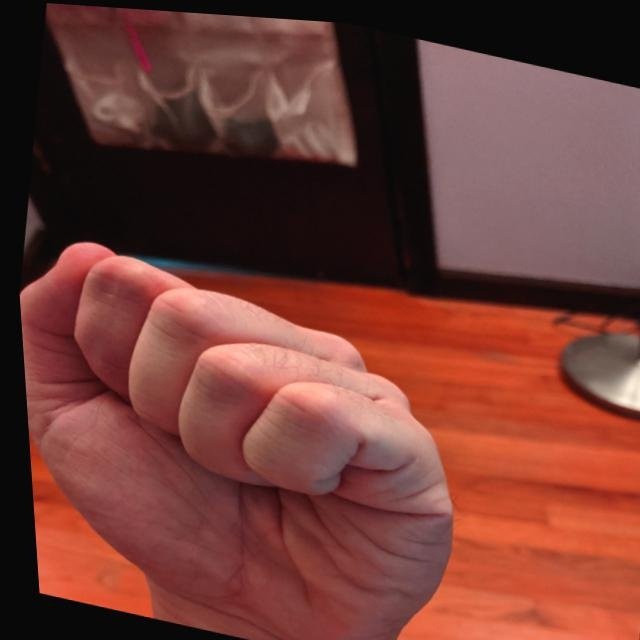A: (11, 220, 501, 639)
